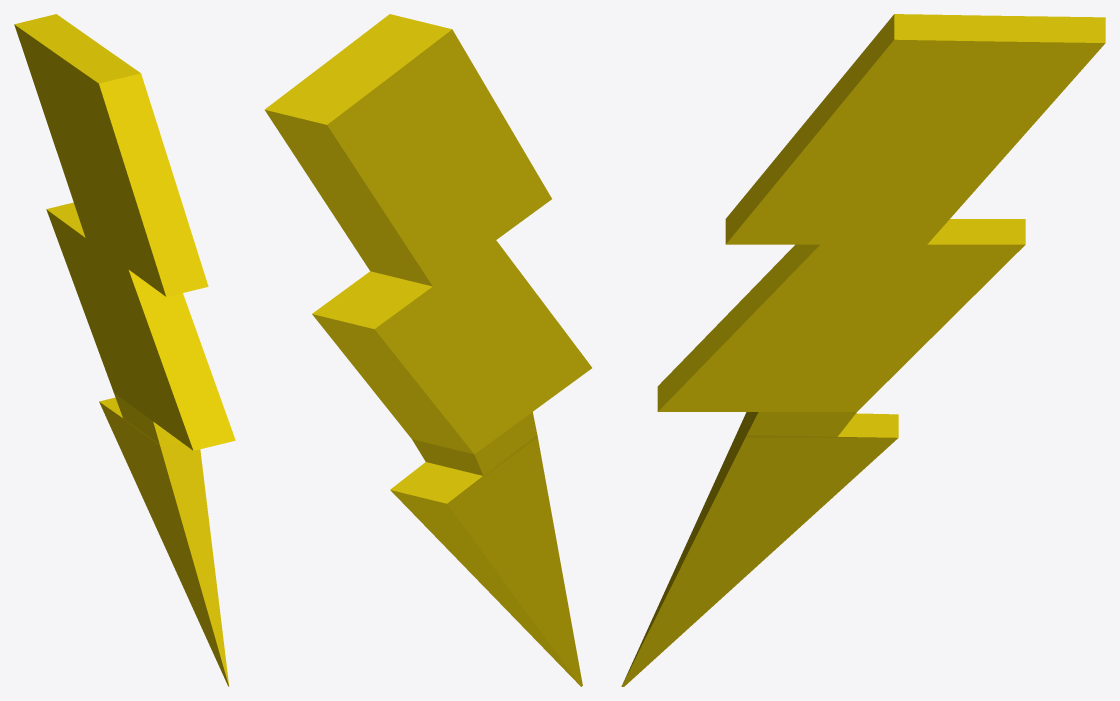
Rendered from Speed2Lightning.fbx.
3 renders of one model, left to right at view 1: azimuth 30°, elevation 25°; view 2: azimuth 150°, elevation 25°; view 3: azimuth 270°, elevation 25°, orthographic. The views are drawn at different scales.
Parts seen in each view (by area): view 1: Cube.003; view 2: Cube.003; view 3: Cube.003.
Part boxes in pixels (x1,y1,x2,y2): Cube.003: (14, 14, 235, 686); Cube.003: (264, 14, 591, 686); Cube.003: (621, 14, 1105, 686).
Size of the model in its own units: 3.33 by 39.72 by 26.42.
